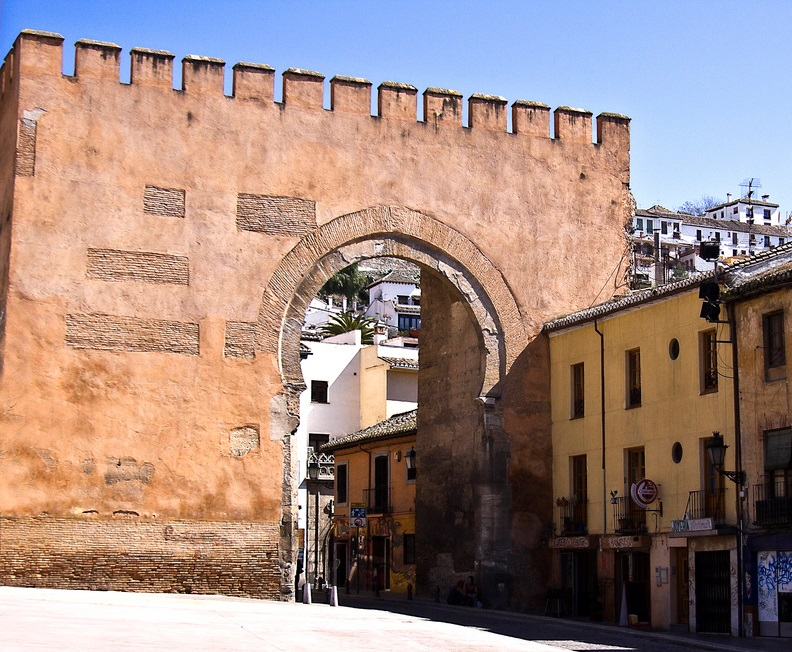arco-herradura: (274, 222, 510, 416)
